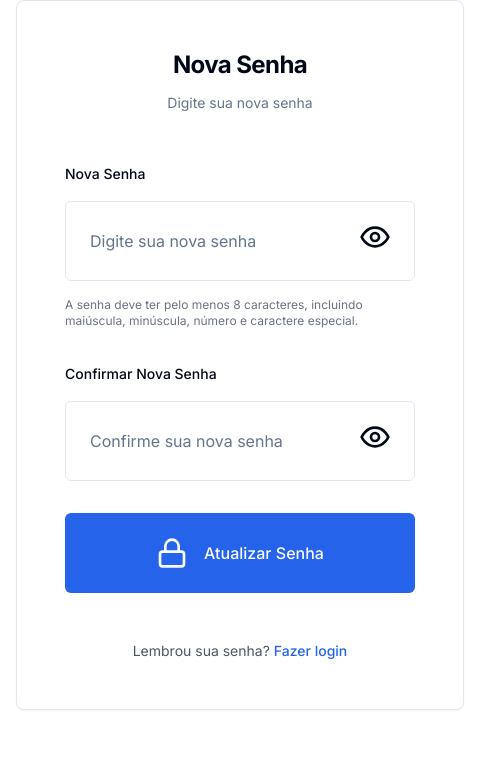
Test case: UpdatePasswordForm › Form Validation › shows error for empty password
The image size is (481, 768).
Click the button "Atualizar Senha". click: (240, 553)
box: x1=65 y1=513 x2=415 y2=593
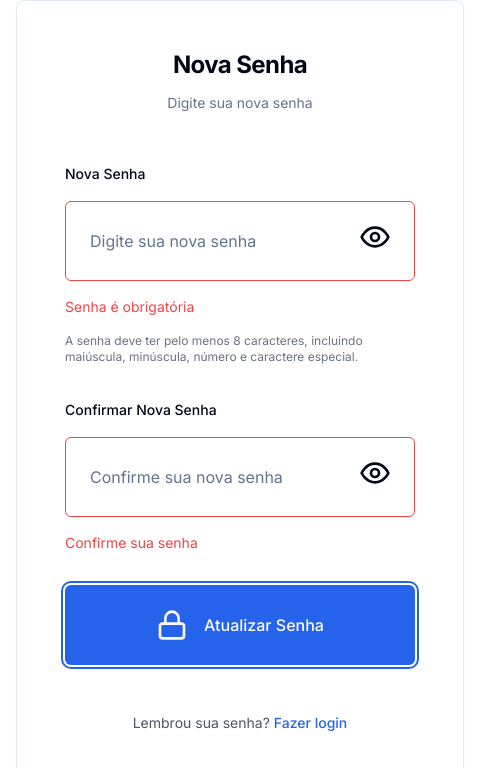
Expected: the text "Senha é obrigatória" is shown, x1=65 y1=298 x2=194 y2=315
